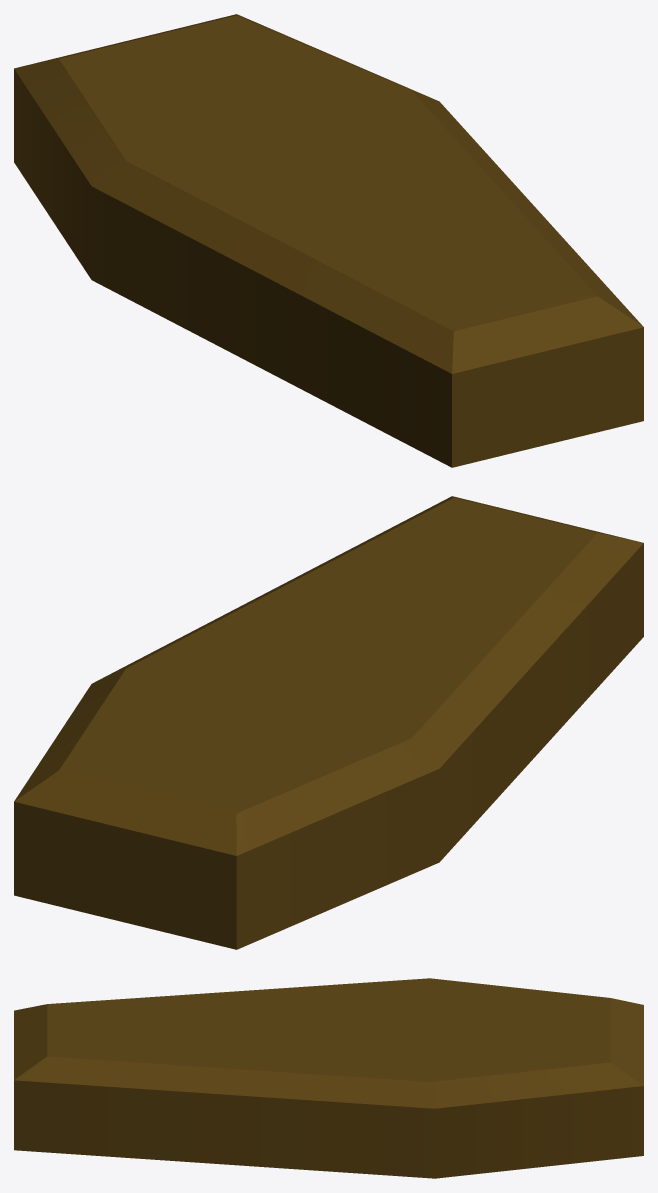
The model's file is Coffin.fbx.
3 renders of one model, top to bottom at view 1: azimuth 30°, elevation 25°; view 2: azimuth 150°, elevation 25°; view 3: azimuth 270°, elevation 25°, orthographic. The views are drawn at different scales.
Visible parts, largest first — view 1: pCube1; view 2: pCube1; view 3: pCube1.
Boxes of the visible parts, x1=… form: pCube1: x1=14, y1=14, x2=643, y2=467; pCube1: x1=14, y1=496, x2=643, y2=949; pCube1: x1=14, y1=978, x2=643, y2=1178.
Bounding box in the file's own units: 4.69 × 1.47 × 9.86.
